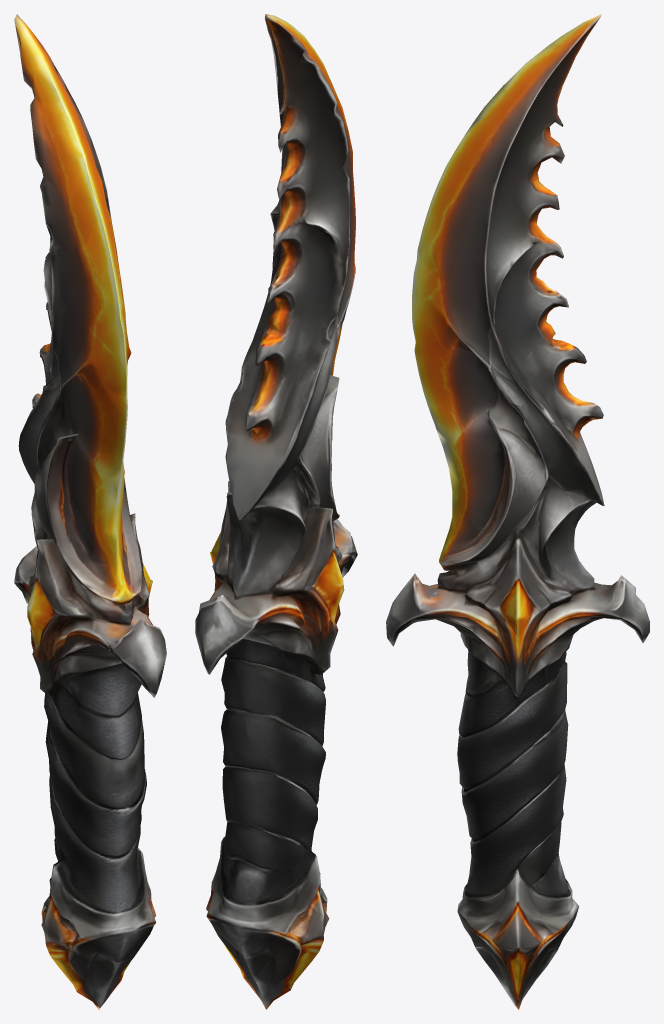
Rendered from w_ember_fangs.glb.
The picture shows the model from 3 angles, left to right: view 1: azimuth 30°, elevation 25°; view 2: azimuth 150°, elevation 25°; view 3: azimuth 270°, elevation 25°; orthographic projection. The views are drawn at different scales.
Parts seen in each view (by area): view 1: tripo_node_493c2028-afa0-4e54-89a7-05cc0617c2a8; view 2: tripo_node_493c2028-afa0-4e54-89a7-05cc0617c2a8; view 3: tripo_node_493c2028-afa0-4e54-89a7-05cc0617c2a8.
Part boxes in pixels (box(x1,y1,x2,y2)): tripo_node_493c2028-afa0-4e54-89a7-05cc0617c2a8: box(14, 14, 166, 1009); tripo_node_493c2028-afa0-4e54-89a7-05cc0617c2a8: box(195, 14, 357, 1009); tripo_node_493c2028-afa0-4e54-89a7-05cc0617c2a8: box(386, 14, 649, 1009).
Bounding box in the file's own units: 0.1352 × 1 × 0.245.
1 material, 1 textured.
